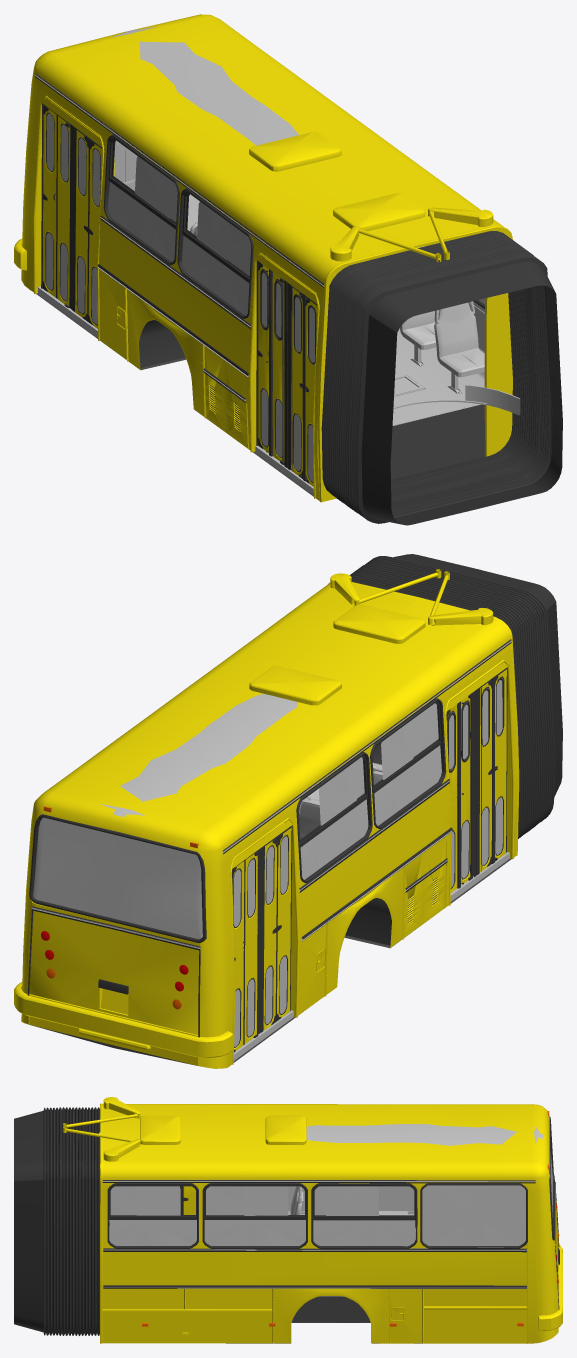
Rendered from BusTrailer.FBX.
The picture shows the model from 3 angles, top to bottom: view 1: azimuth 30°, elevation 25°; view 2: azimuth 150°, elevation 25°; view 3: azimuth 270°, elevation 25°; orthographic projection. The views are drawn at different scales.
Visible parts, largest first — view 1: Body, Connector, Interior, Windows, Buttom, Rubber, Rear Door 2, Rear Door 1, Front Door 1, Front Door 2; view 2: Body, Windows, Connector, Interior, Rubber, Rear Door 1, Rear Door 2, Front Door 1, Rear Bumper, Front Door 2, Buttom; view 3: Body, Windows, Connector, Interior, Rubber, Buttom, Rear Bumper, Front Door 2.
Boxes of the visible parts, x1=… form: Body: x1=21, y1=14, x2=512, y2=502; Connector: x1=321, y1=231, x2=562, y2=525; Interior: x1=37, y1=26, x2=520, y2=494; Windows: x1=108, y1=156, x2=485, y2=337; Buttom: x1=36, y1=293, x2=485, y2=496; Rubber: x1=103, y1=134, x2=485, y2=481; Rear Door 2: x1=41, y1=103, x2=73, y2=308; Rear Door 1: x1=71, y1=126, x2=102, y2=328; Front Door 1: x1=290, y1=284, x2=317, y2=486; Front Door 2: x1=256, y1=260, x2=284, y2=465; Body: x1=21, y1=569, x2=519, y2=1068; Windows: x1=33, y1=703, x2=468, y2=939; Connector: x1=350, y1=554, x2=562, y2=838; Interior: x1=99, y1=694, x2=509, y2=1060; Rubber: x1=29, y1=676, x2=503, y2=942; Rear Door 1: x1=260, y1=826, x2=292, y2=1033; Rear Door 2: x1=232, y1=848, x2=260, y2=1052; Front Door 1: x1=479, y1=667, x2=507, y2=872; Rear Bumper: x1=14, y1=982, x2=233, y2=1057; Front Door 2: x1=446, y1=692, x2=473, y2=892; Buttom: x1=29, y1=858, x2=511, y2=1065; Body: x1=63, y1=1097, x2=559, y2=1343; Windows: x1=109, y1=1151, x2=552, y2=1247; Connector: x1=14, y1=1107, x2=100, y2=1335; Interior: x1=287, y1=1124, x2=543, y2=1296; Rubber: x1=107, y1=1116, x2=554, y2=1248; Buttom: x1=226, y1=1296, x2=527, y2=1343; Rear Bumper: x1=538, y1=1245, x2=562, y2=1330; Front Door 2: x1=179, y1=1186, x2=195, y2=1214.
Bounding box in the file's own units: 7.29 × 8.04 × 21.74.
